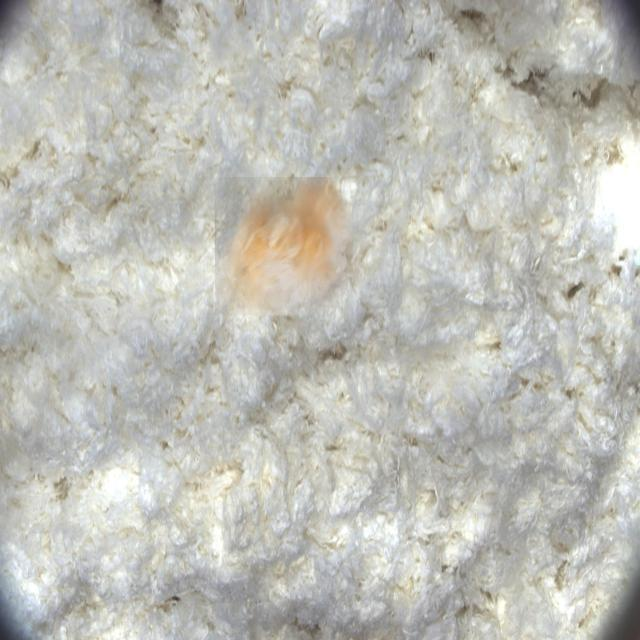dust: (215, 177, 353, 315)
